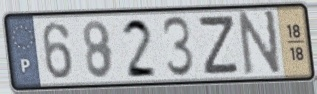2: (120, 16, 158, 79)
3: (161, 14, 196, 79)
6: (40, 20, 76, 81)
8: (81, 19, 114, 81)
N: (238, 8, 283, 78)
Z: (198, 14, 241, 77)
